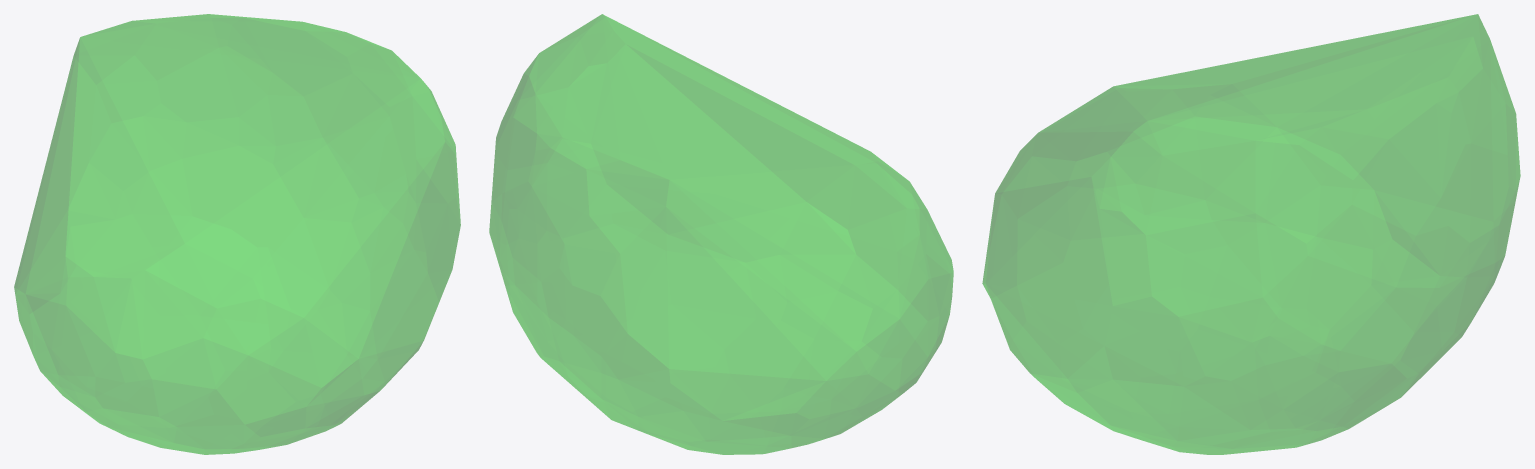
The model's file is talos_lleg_rom.dae.
3 views of the same model, side by side, from view 1: azimuth 30°, elevation 25°; view 2: azimuth 150°, elevation 25°; view 3: azimuth 270°, elevation 25° (orthographic). The views are drawn at different scales.
Parts seen in each view (by area): view 1: foo; view 2: foo; view 3: foo.
Boxes of the visible parts, x1,y1,x2,y2 form: foo: [14, 14, 460, 454]; foo: [489, 14, 953, 454]; foo: [982, 14, 1520, 454].
Bounding box in the file's own units: 1.47 × 1.49 × 1.23.
